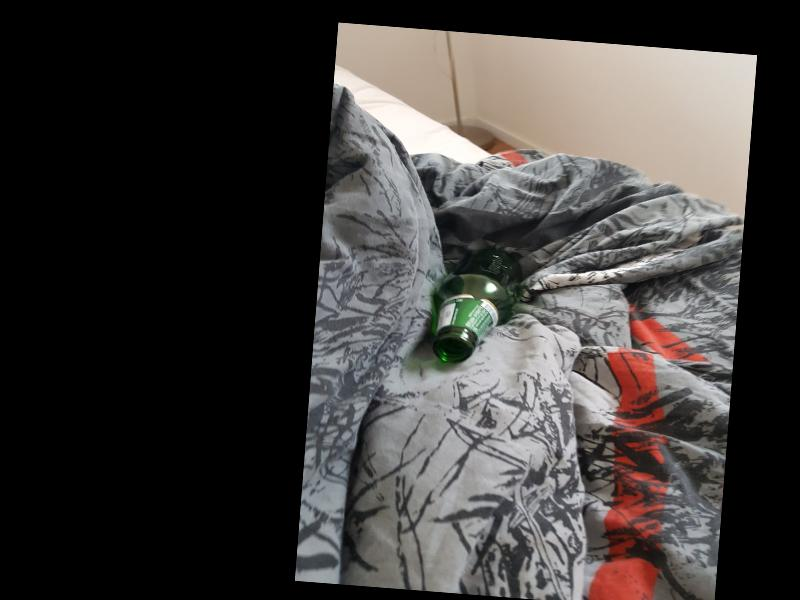Beer: (427, 243, 523, 368)
